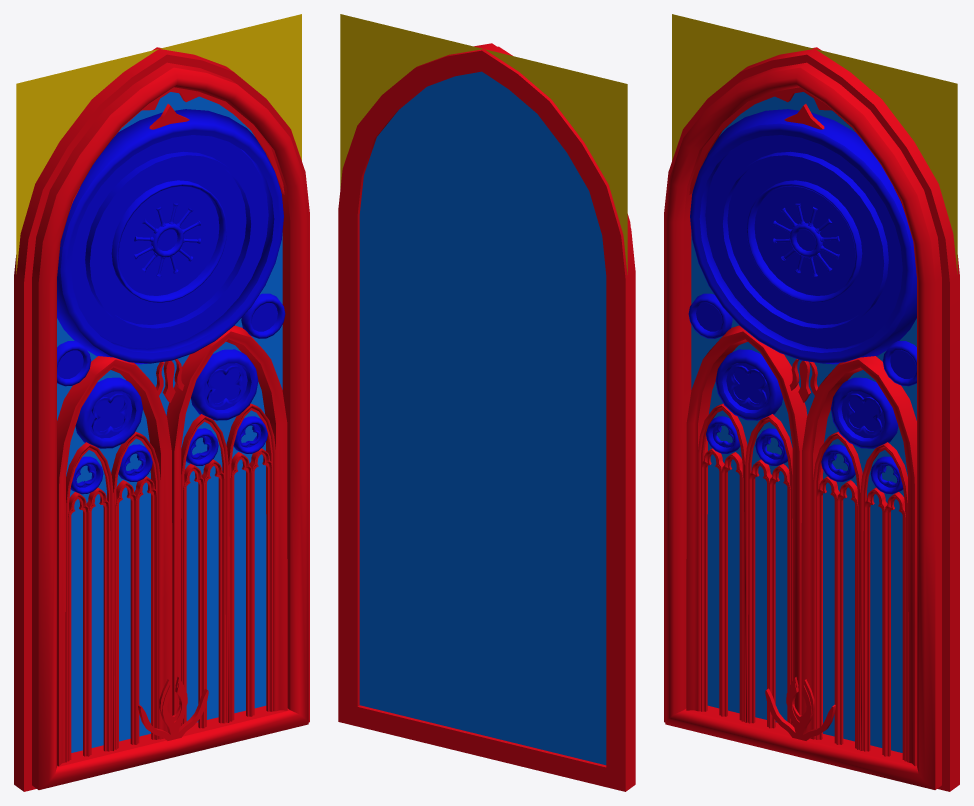
The model's file is SM_clockwindow.fbx.
3 renders of one model, left to right at view 1: azimuth 30°, elevation 25°; view 2: azimuth 150°, elevation 25°; view 3: azimuth 330°, elevation 25°, orthographic.
Parts seen in each view (by area): view 1: mid_small_low.003, maincir_alpha_low.001, maincir_alpha_low.002, maincir_alpha_low.003; view 2: maincir_alpha_low.002, mid_small_low.003, maincir_alpha_low.003; view 3: mid_small_low.003, maincir_alpha_low.001, maincir_alpha_low.002, maincir_alpha_low.003.
Part boxes in pixels (x1=…): mid_small_low.003: x1=14, y1=47, x2=309, y2=791; maincir_alpha_low.001: x1=57, y1=109, x2=285, y2=494; maincir_alpha_low.002: x1=57, y1=92, x2=282, y2=752; maincir_alpha_low.003: x1=16, y1=14, x2=301, y2=273; maincir_alpha_low.002: x1=359, y1=71, x2=606, y2=765; mid_small_low.003: x1=338, y1=43, x2=635, y2=791; maincir_alpha_low.003: x1=340, y1=14, x2=627, y2=274; mid_small_low.003: x1=664, y1=47, x2=959, y2=791; maincir_alpha_low.001: x1=688, y1=109, x2=916, y2=494; maincir_alpha_low.002: x1=691, y1=92, x2=916, y2=752; maincir_alpha_low.003: x1=672, y1=14, x2=957, y2=273.
Bounding box in the file's own units: 645 × 1514 × 80.11.
